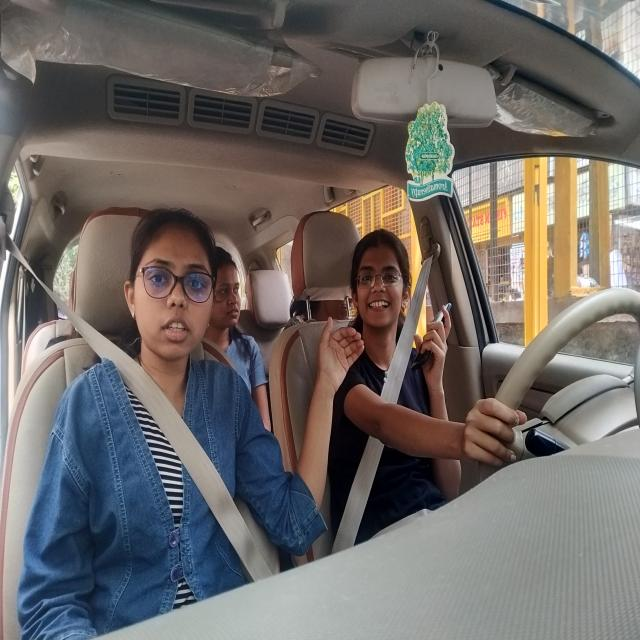mobile: (409, 301, 455, 371)
person: (120, 201, 220, 375), (352, 227, 407, 328), (211, 242, 246, 338)
